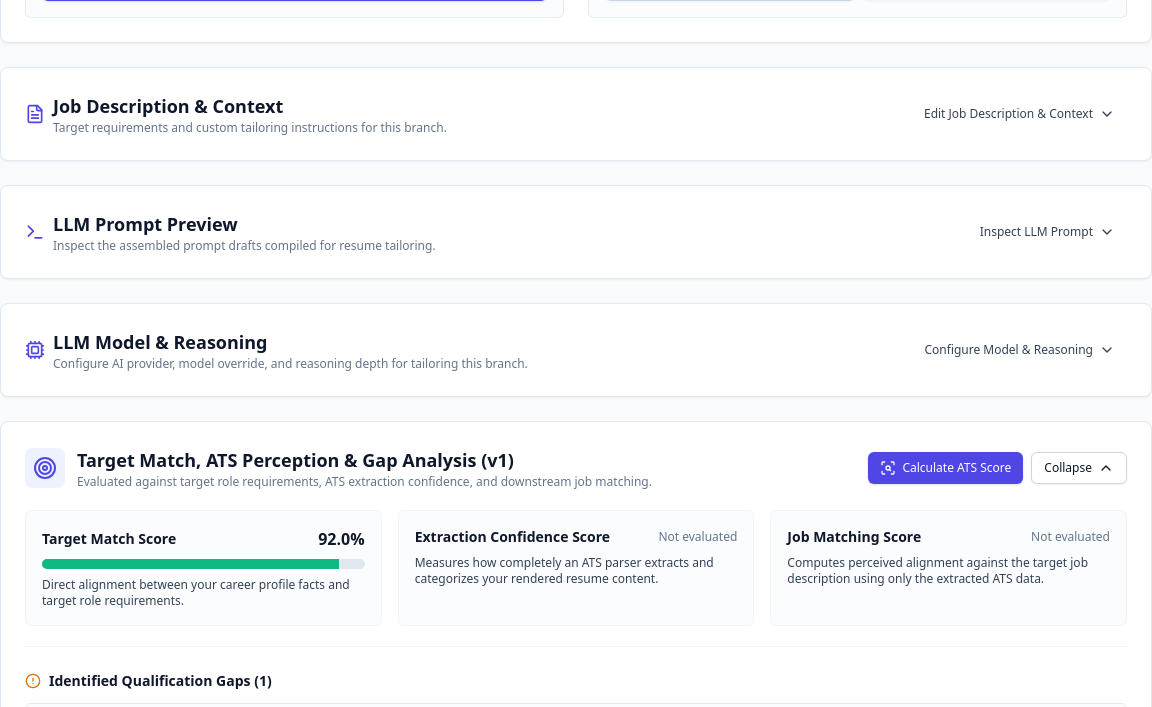
Test case: BranchWorkbenchPage › renders LLM model & reasoning selection under prompt preview when admin and updates configuration
(page scrolled)
Expected: the heading "LLM Prompt Preview" is shown, [53,212,238,236]
Expected: the heading "LLM Model & Reasoning" is shown, [53,330,268,354]
Note: Expand model selection
Click the button "Configure Model & Reasoning".
click(1020, 350)  # box [912,334,1127,366]
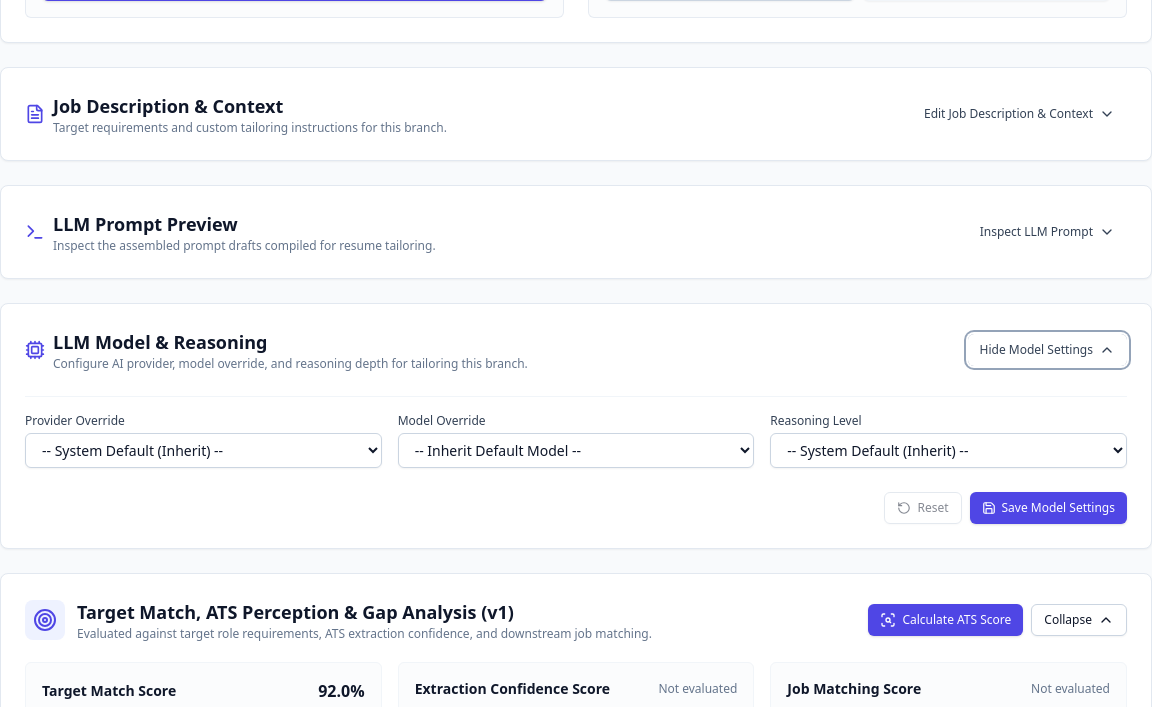
Select "Anthropic" in the dropdown labelled "Provider Override" at (203, 450), box [25,433,382,468]
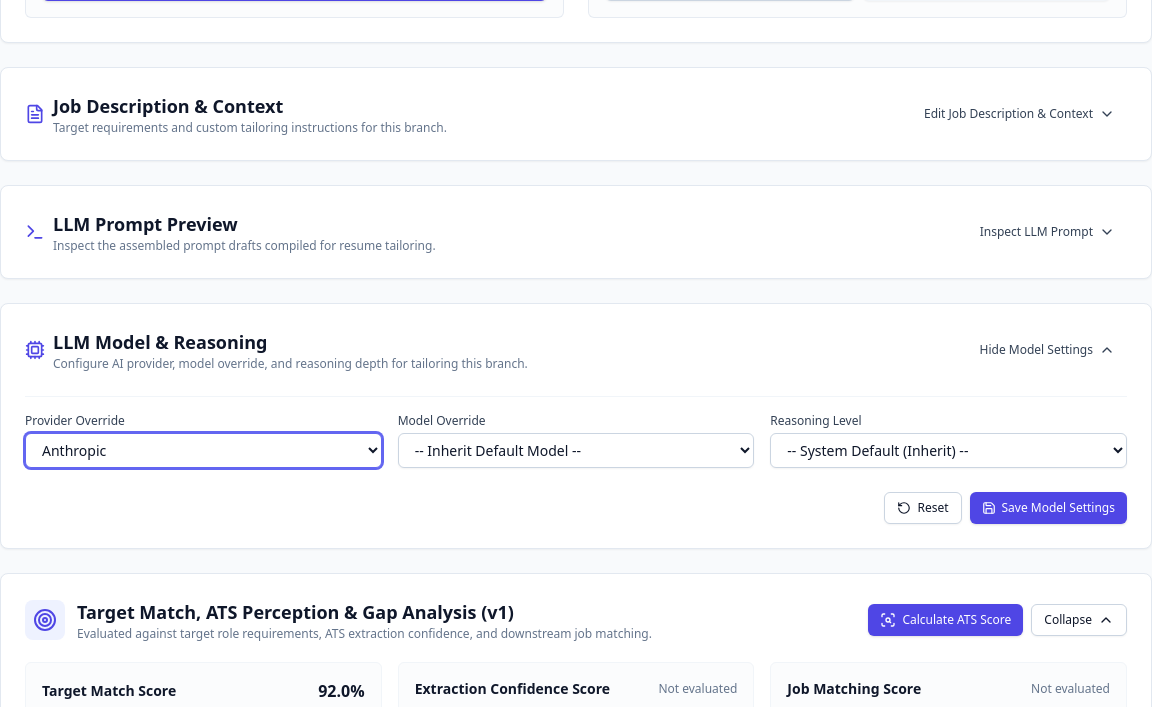
Select "Claude 3.7 Sonnet" in the dropdown labelled "Model Override" at (576, 450), box [398,433,754,468]
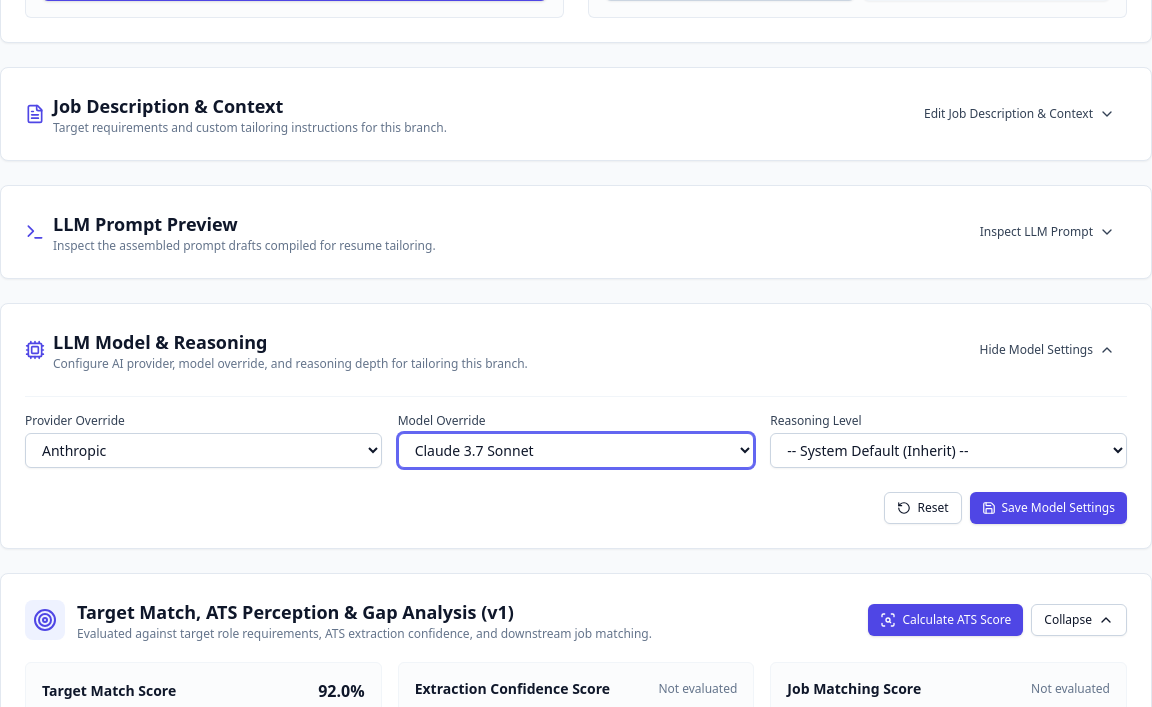
Select "High (Deep analytical reasoning)" in the dropdown labelled "Reasoning Level" at (949, 450), box [770,433,1127,468]
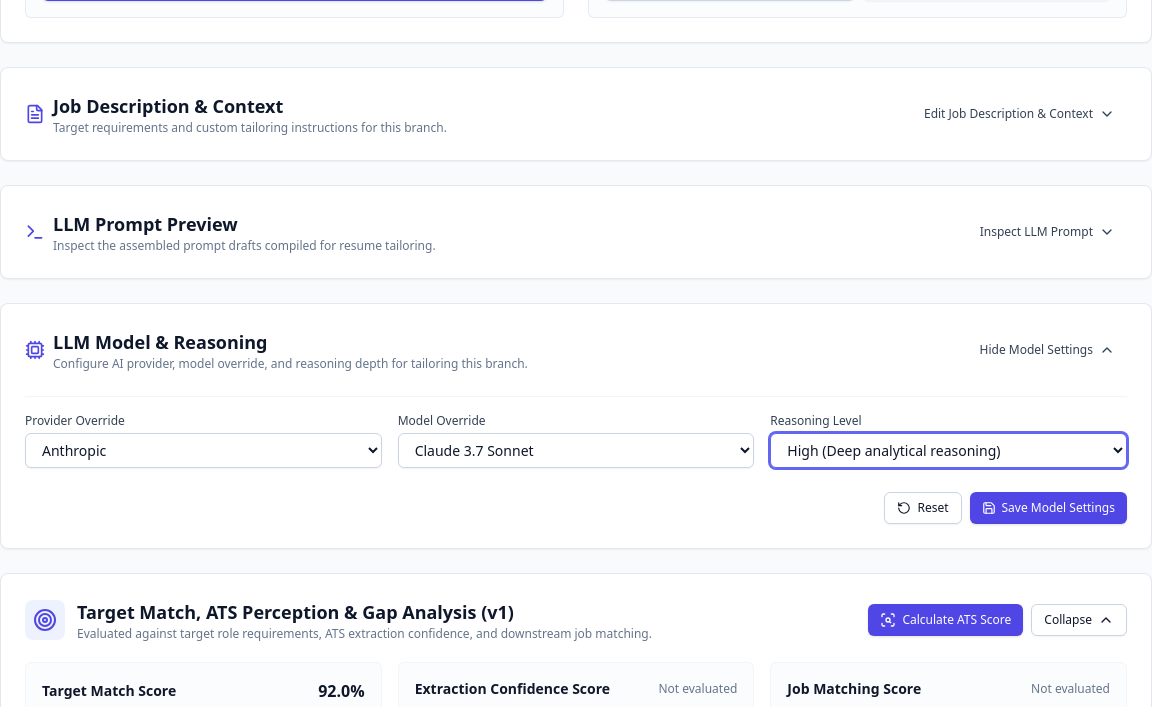
Click the button "Save Model Settings".
click(1048, 508)  # box [970,492,1127,524]
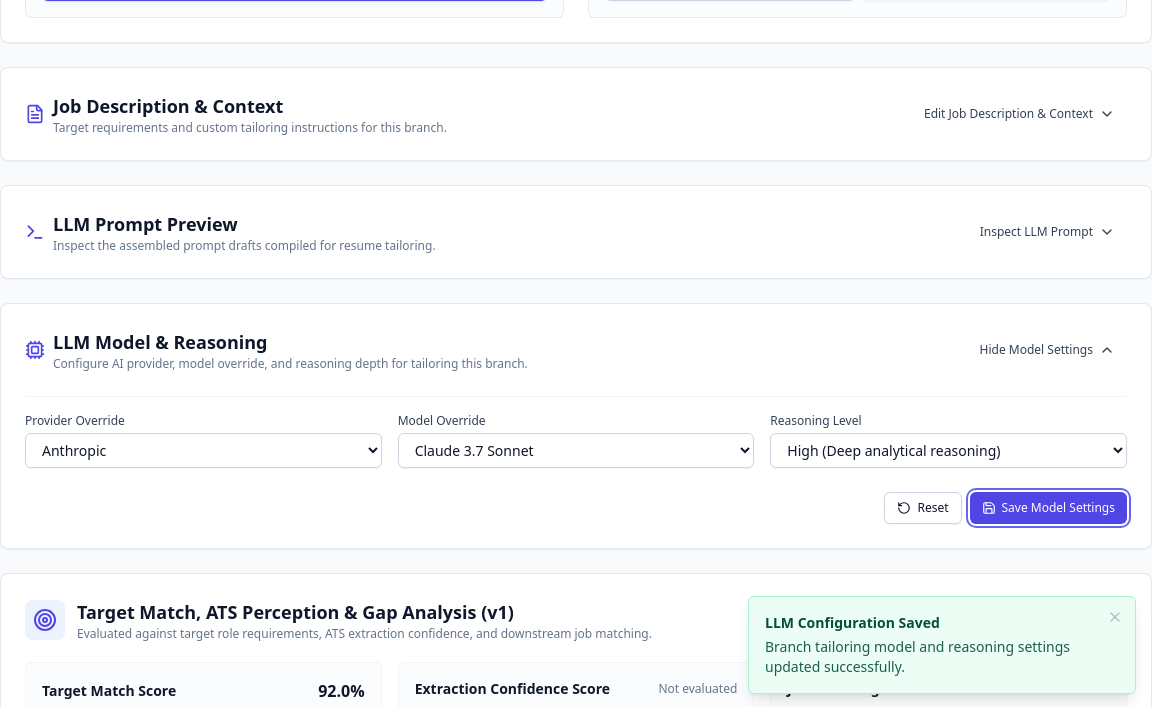
Expected: the text "LLM Configuration Saved" is shown, [765,613,940,632]
